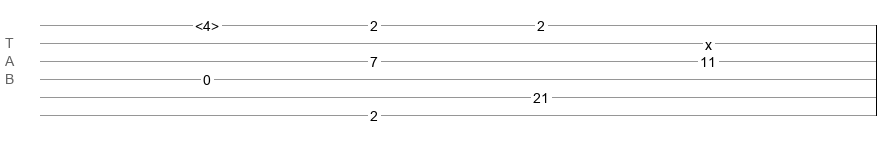0: (203, 72, 211, 82)
11: (700, 54, 716, 64)
2: (370, 18, 378, 28), (370, 108, 378, 118), (537, 18, 545, 28)
21: (533, 90, 549, 100)
7: (370, 54, 378, 64)
harmonic: (195, 18, 219, 28)
x: (705, 37, 712, 45)
